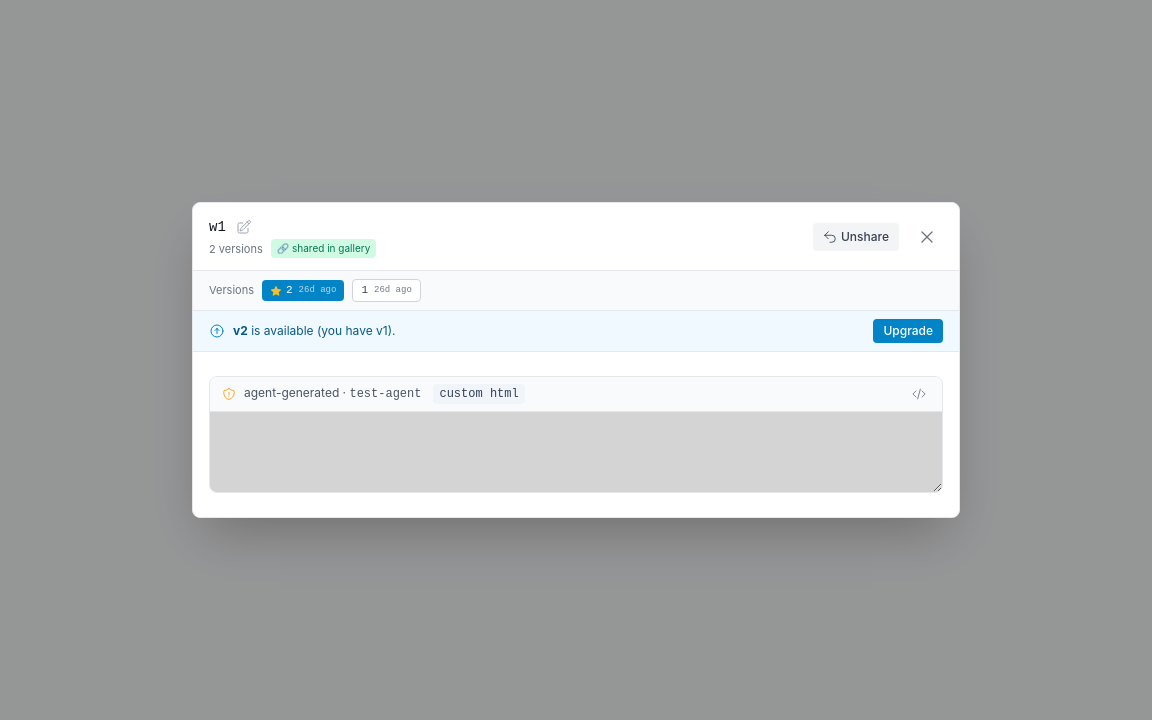
Test: upgrade prompt › clicking Upgrade POSTs /apply-upgrade and clears the banner
Click the button with test id "apply-upgrade-btn": {"x": 908, "y": 331} [873, 319, 943, 343]
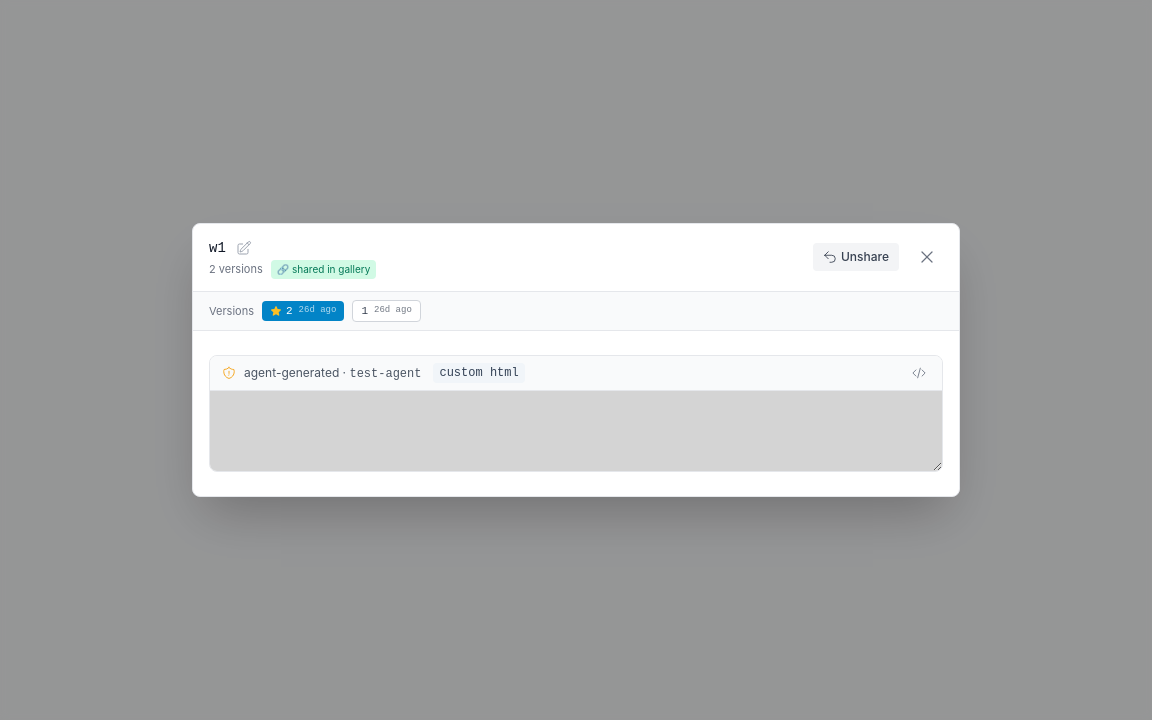
Result: the element with test id "upgrade-banner" is gone
